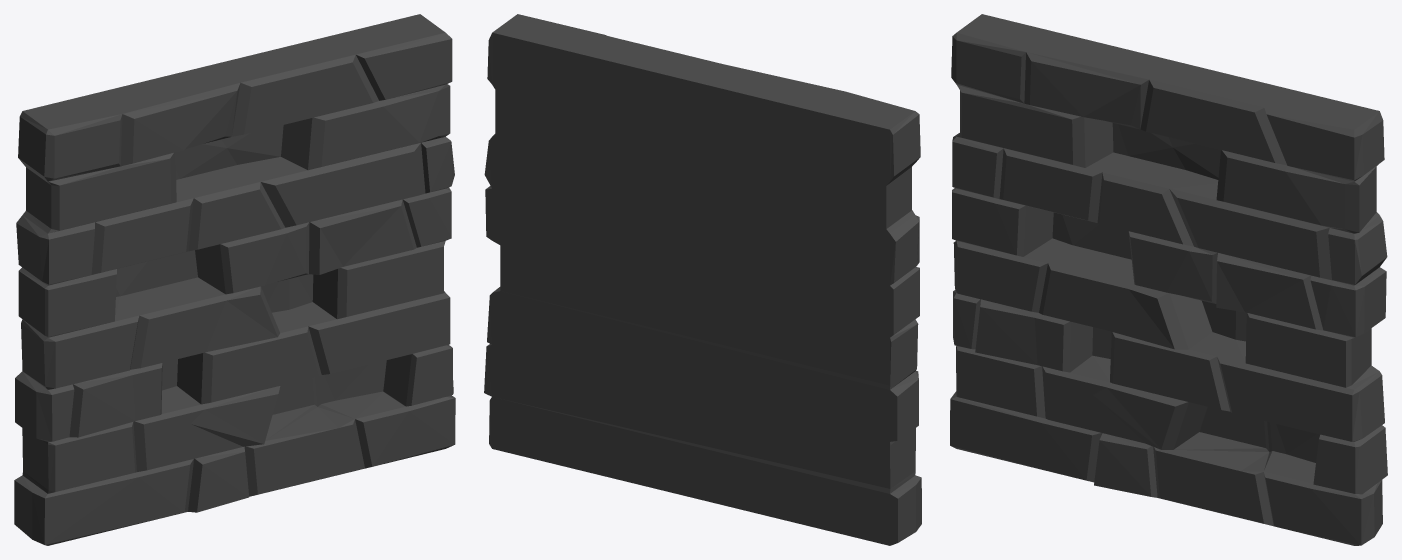
The model's file is Wall_SmallHoles.fbx.
The picture shows the model from 3 angles, left to right: view 1: azimuth 30°, elevation 25°; view 2: azimuth 150°, elevation 25°; view 3: azimuth 330°, elevation 25°; orthographic projection.
Visible parts, largest first — view 1: Wall_SmallHoles; view 2: Wall_SmallHoles; view 3: Wall_SmallHoles.
Part boxes in pixels (<box>): Wall_SmallHoles: <box>14,14,455,545</box>; Wall_SmallHoles: <box>484,14,921,545</box>; Wall_SmallHoles: <box>950,14,1387,545</box>.
Bounding box in the file's own units: 838 × 800 × 110.
Materials: 1 (1 with a texture image).
